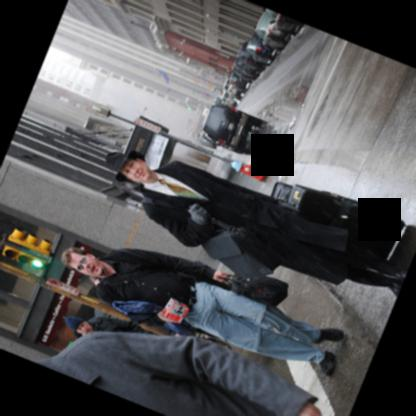handbag: (140, 196, 287, 281), (223, 273, 288, 305), (98, 267, 172, 284)
suitcase: (280, 183, 408, 257)
